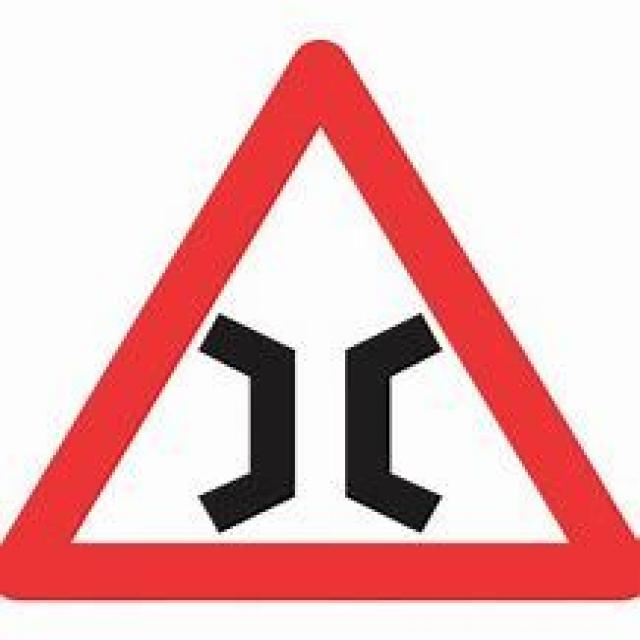NARROW_BRIDGE: (0, 37, 637, 597)
